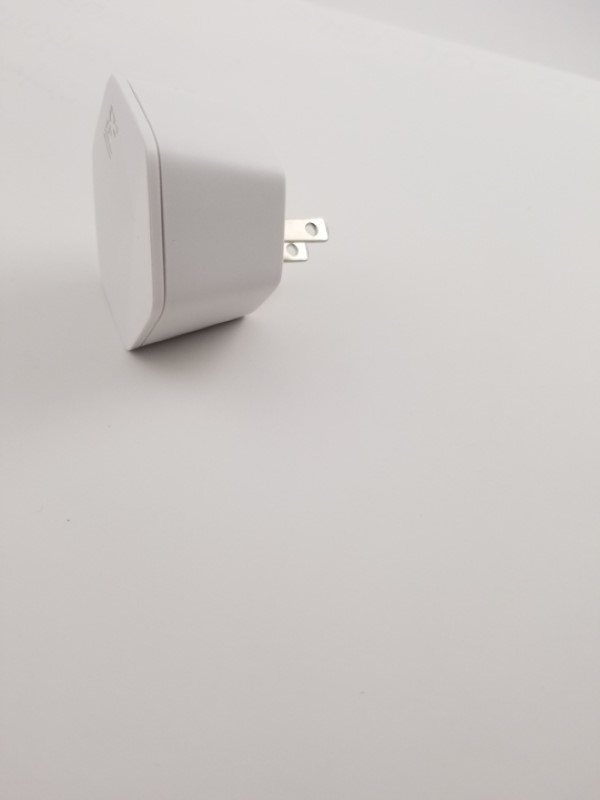pod: (86, 69, 332, 361)
